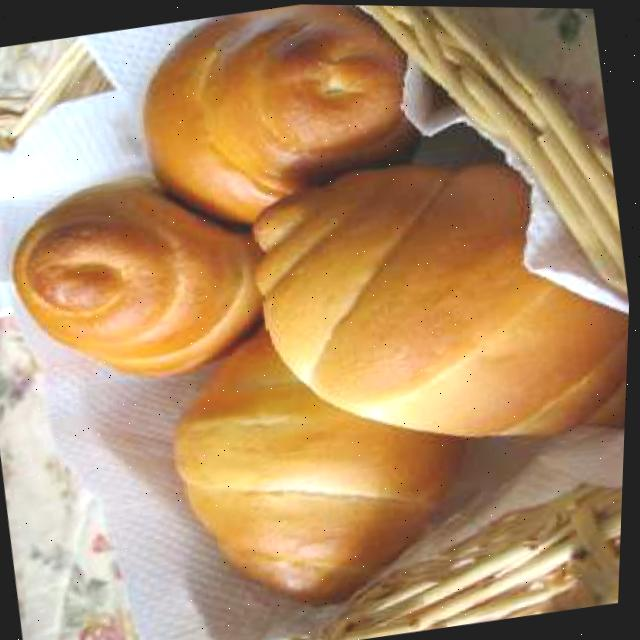面包点心: (222, 121, 637, 477)
